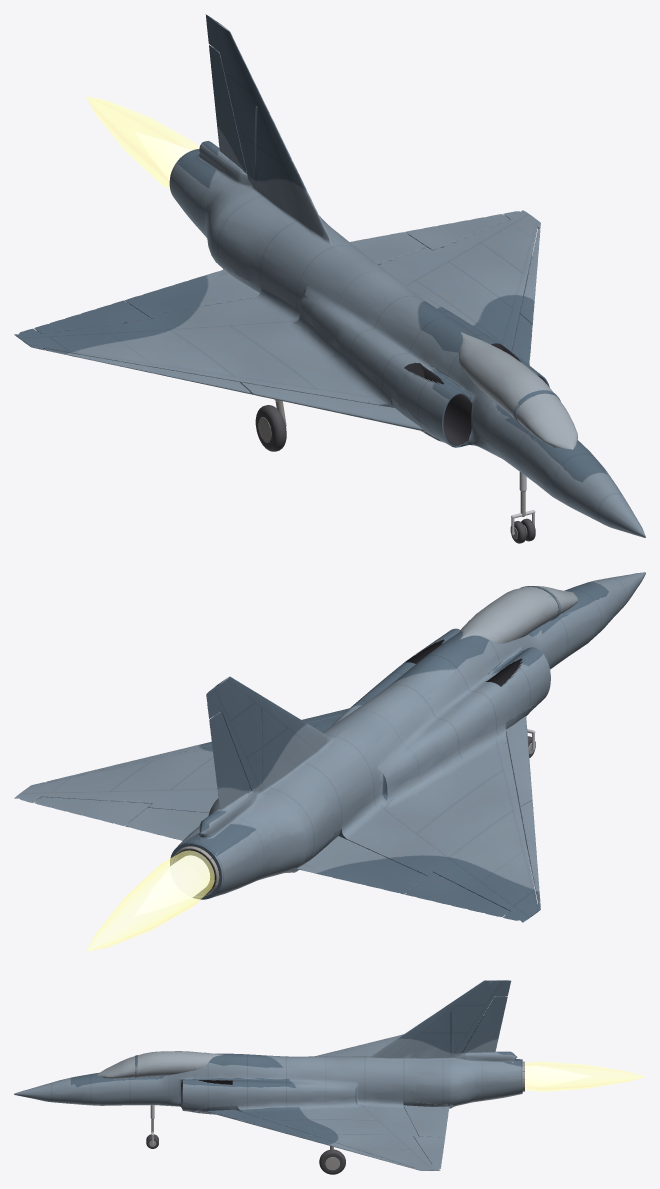
The model's file is mirage2000.glb.
3 views of the same model, one above another, from view 1: azimuth 30°, elevation 25°; view 2: azimuth 150°, elevation 25°; view 3: azimuth 270°, elevation 25° (orthographic). The views are drawn at different scales.
Visible parts, largest first — view 1: airframe, fsim:elevator+aileron:-1@-25,25 (×2), fsim:lef@-2,25 (×3), fsim:afterburner:0, fsim:elevator+aileron:1@-25,25 (×2), fsim:rudder, fsim:wheel:2:0.375; view 2: airframe, fsim:afterburner:0, fsim:elevator+aileron:-1@-25,25 (×2), fsim:elevator+aileron:1@-25,25 (×2), fsim:lef@-2,25 (×2), fsim:rudder; view 3: airframe, fsim:afterburner:0, fsim:elevator+aileron:1@-25,25 (×2), fsim:rudder, fsim:lef@-2,25 (×2), fsim:wheel:1:0.375.
Part boxes in pixels (x1,y1,x2,y2): airframe: (14, 14, 645, 537); fsim:elevator+aileron:-1@-25,25 (×2): (34, 269, 259, 333); fsim:lef@-2,25 (×3): (44, 228, 540, 431); fsim:afterburner:0: (86, 96, 199, 189); fsim:elevator+aileron:1@-25,25 (×2): (350, 214, 509, 264); fsim:rudder: (209, 45, 246, 173); fsim:wheel:2:0.375: (255, 405, 286, 451); airframe: (14, 572, 645, 922); fsim:afterburner:0: (86, 850, 214, 951); fsim:elevator+aileron:-1@-25,25 (×2): (297, 836, 509, 916); fsim:elevator+aileron:1@-25,25 (×2): (35, 797, 208, 840); fsim:lef@-2,25 (×2): (506, 716, 540, 903); fsim:rudder: (209, 711, 251, 810); airframe: (14, 980, 522, 1170); fsim:afterburner:0: (525, 1061, 645, 1091); fsim:elevator+aileron:1@-25,25 (×2): (403, 1105, 449, 1164); fsim:rudder: (462, 996, 507, 1053); fsim:lef@-2,25 (×2): (206, 1109, 414, 1168); fsim:wheel:1:0.375: (319, 1149, 345, 1174).
Size of the model in its own units: 9.34 by 5.21 by 17.75.
8 materials, 1 textured.
